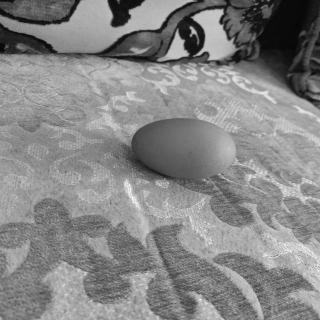Telur: (131, 118, 241, 182)
